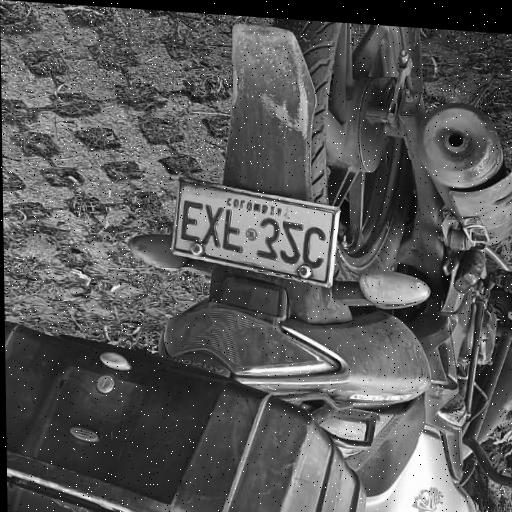placa: (171, 179, 339, 289)
